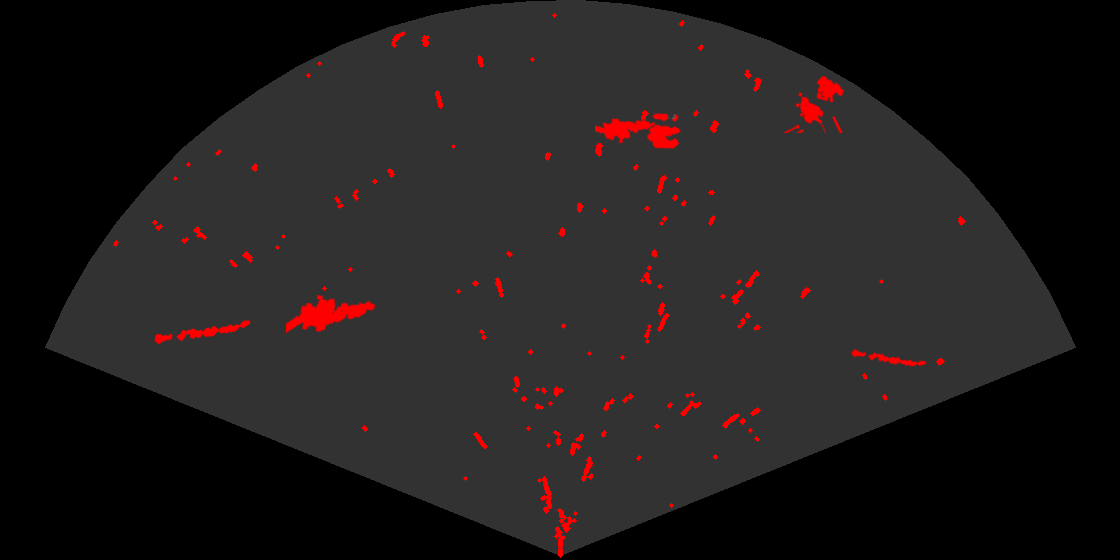ball: (645, 112, 683, 150)
cage: (782, 74, 846, 133)
chain: (152, 318, 252, 346), (847, 348, 927, 368)
frogman: (286, 293, 377, 335), (595, 116, 658, 145)
